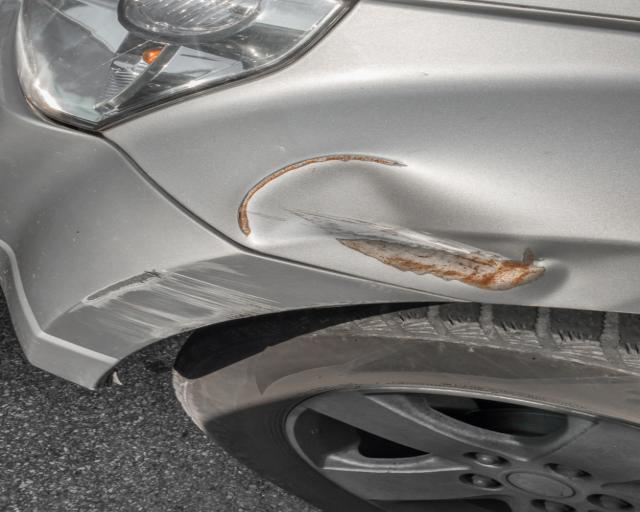dent: (243, 157, 640, 310)
scratch: (67, 261, 357, 343)
